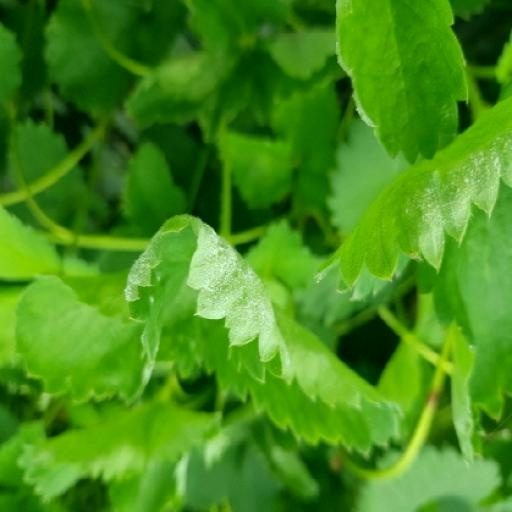Powdery Mildew Leaf: (0, 210, 199, 415), (224, 128, 388, 300), (42, 345, 178, 511)
